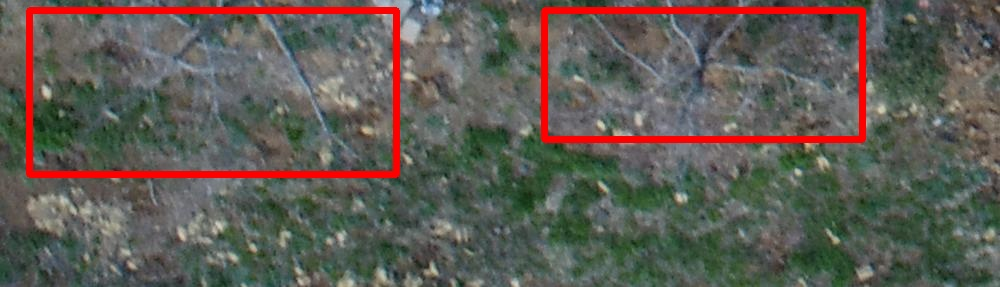apple: (29, 10, 396, 174), (544, 10, 862, 139)
